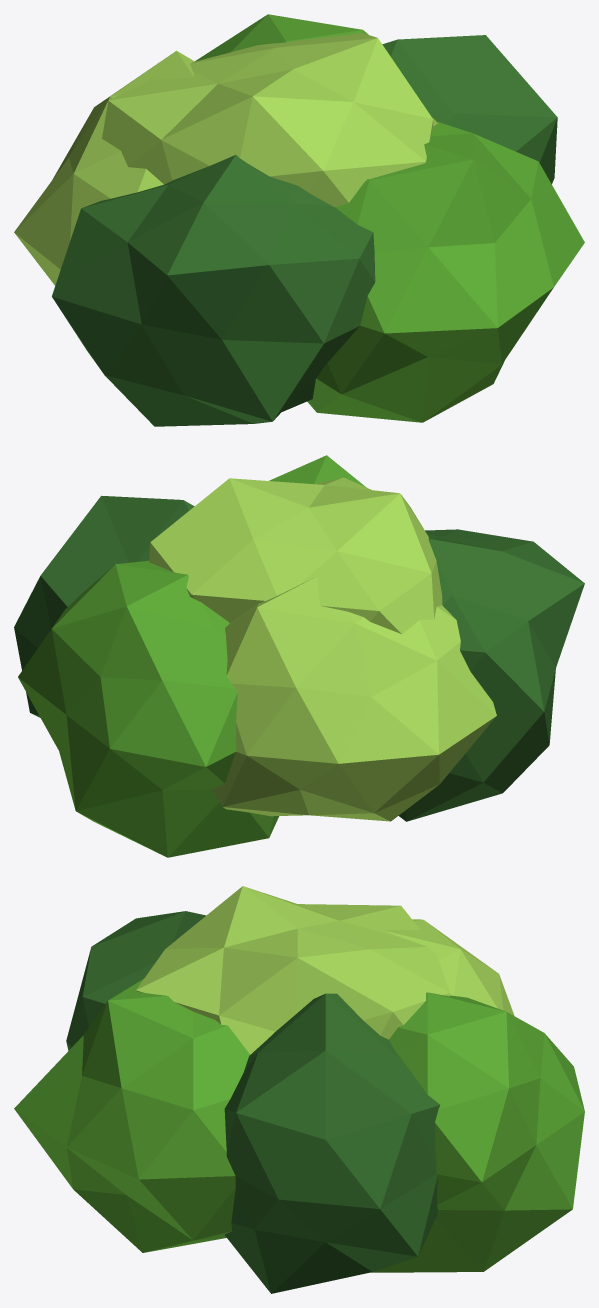
Rendered from bush_3.glb.
3 views of the same model, one above another, from view 1: azimuth 30°, elevation 25°; view 2: azimuth 150°, elevation 25°; view 3: azimuth 270°, elevation 25° (orthographic). The views are drawn at different scales.
Parts seen in each view (by area): view 1: bush_3; view 2: bush_3; view 3: bush_3.
Boxes of the visible parts, x1=… form: bush_3: x1=14, y1=14, x2=584, y2=426; bush_3: x1=14, y1=455, x2=584, y2=857; bush_3: x1=14, y1=886, x2=584, y2=1293.
Size of what is drawn, in the model's own units: 2.03 by 1.25 by 2.04.
